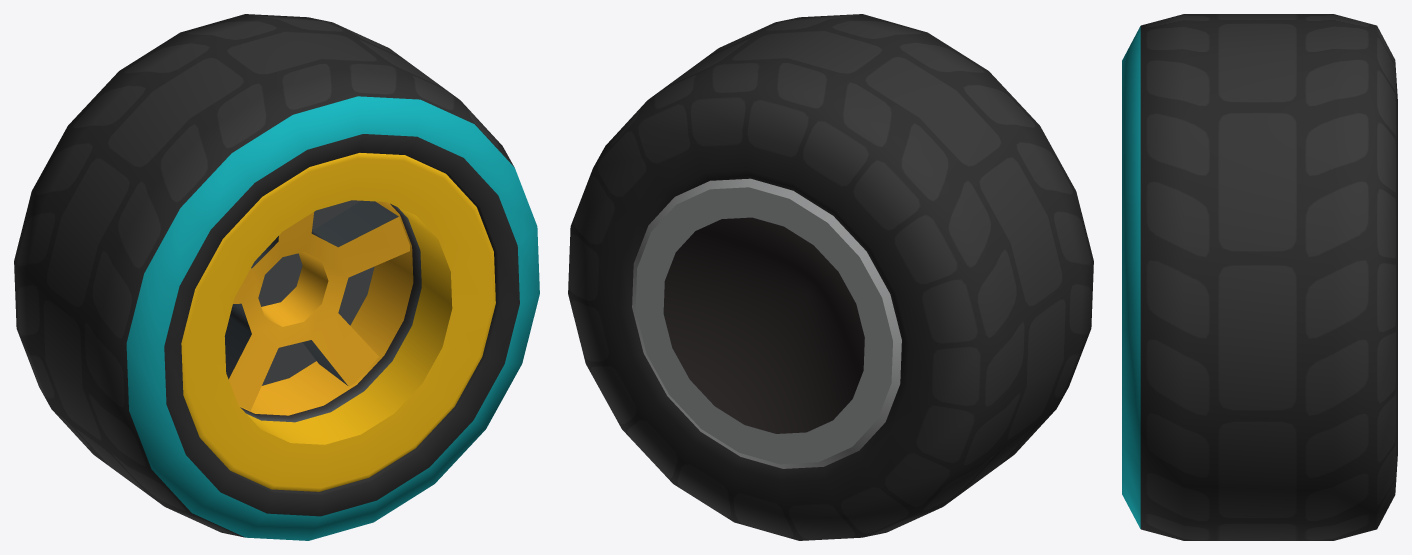
File: Wheel_14.fbx
3 renders of one model, left to right at view 1: azimuth 30°, elevation 25°; view 2: azimuth 150°, elevation 25°; view 3: azimuth 270°, elevation 25°, orthographic. The views are drawn at different scales.
Visible parts, largest first — view 1: Wheel_14; view 2: Wheel_14; view 3: Wheel_14.
Part boxes in pixels (box(x1,y1,x2,y2)): Wheel_14: box(14, 14, 539, 540); Wheel_14: box(568, 14, 1093, 540); Wheel_14: box(1122, 14, 1397, 540).
Bounding box in the file's own units: 95 × 49.97 × 95.
